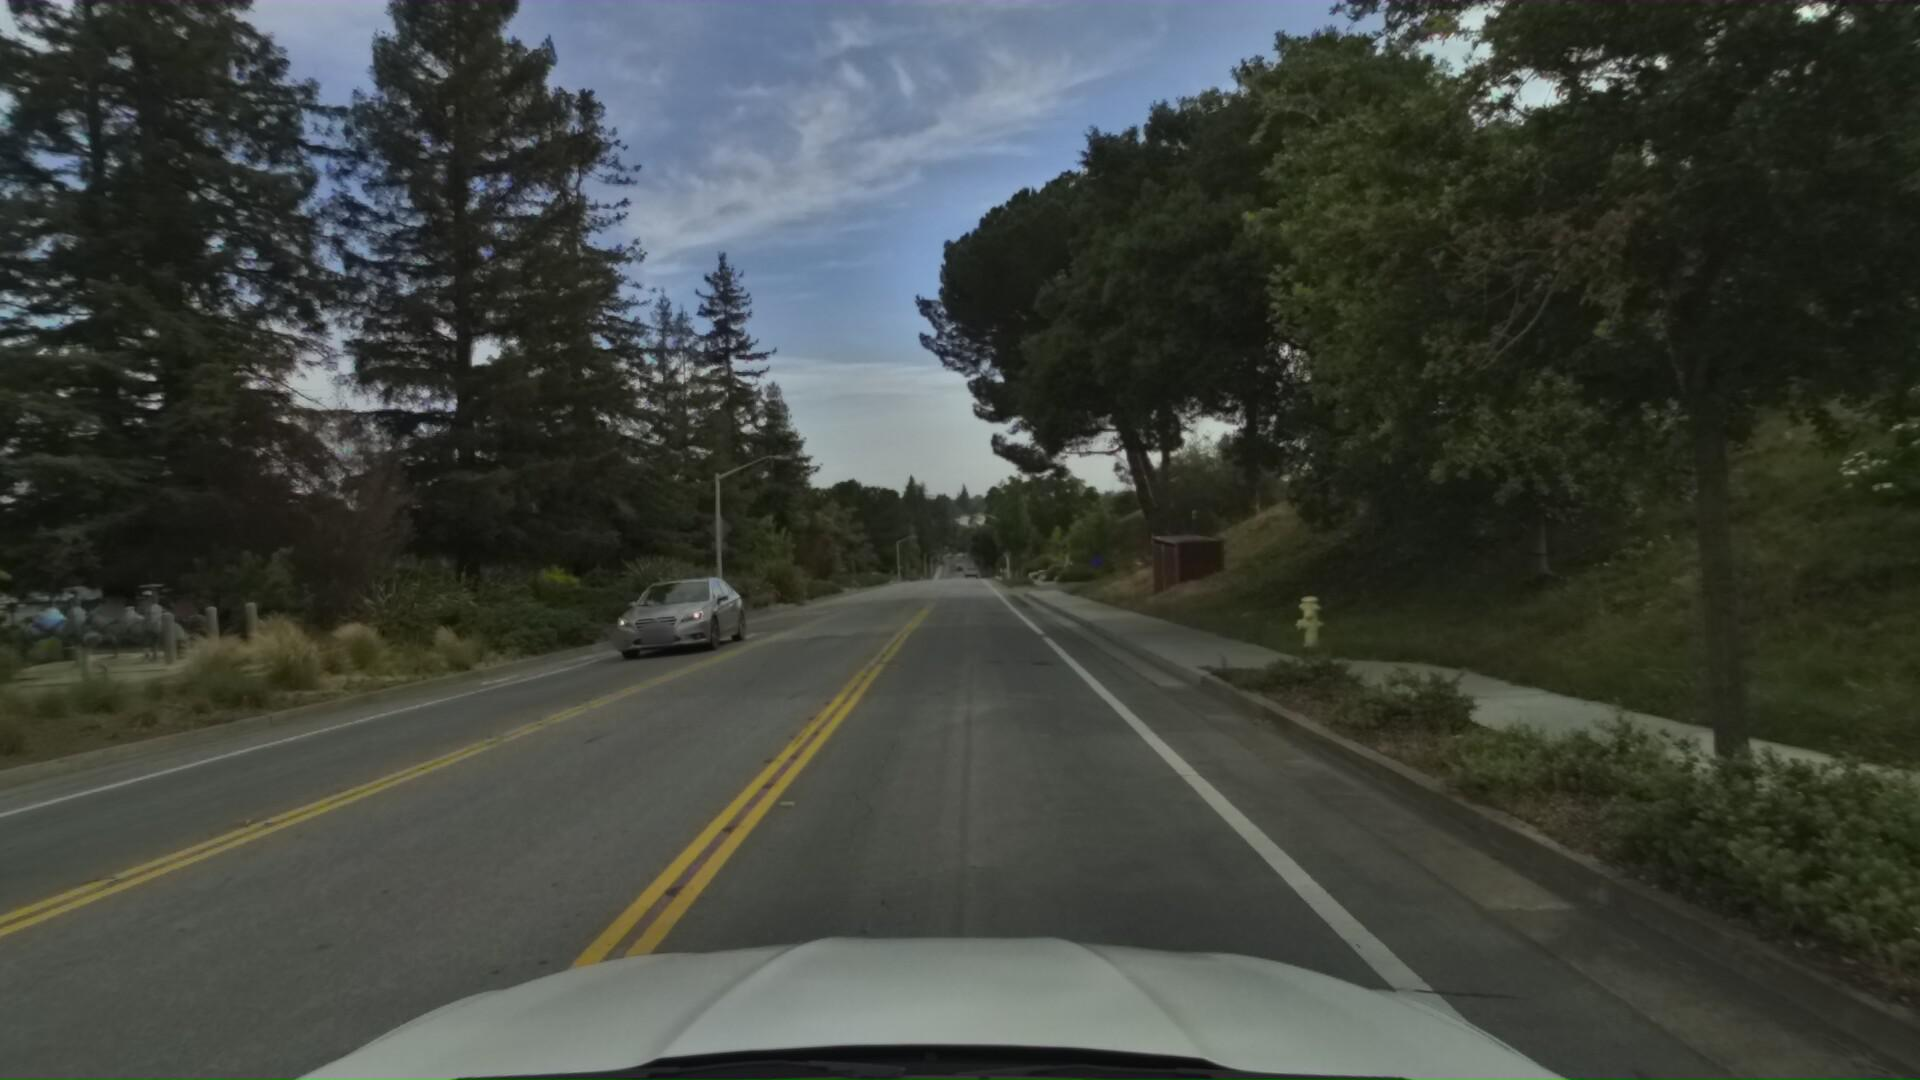car: (585, 558, 745, 669)
